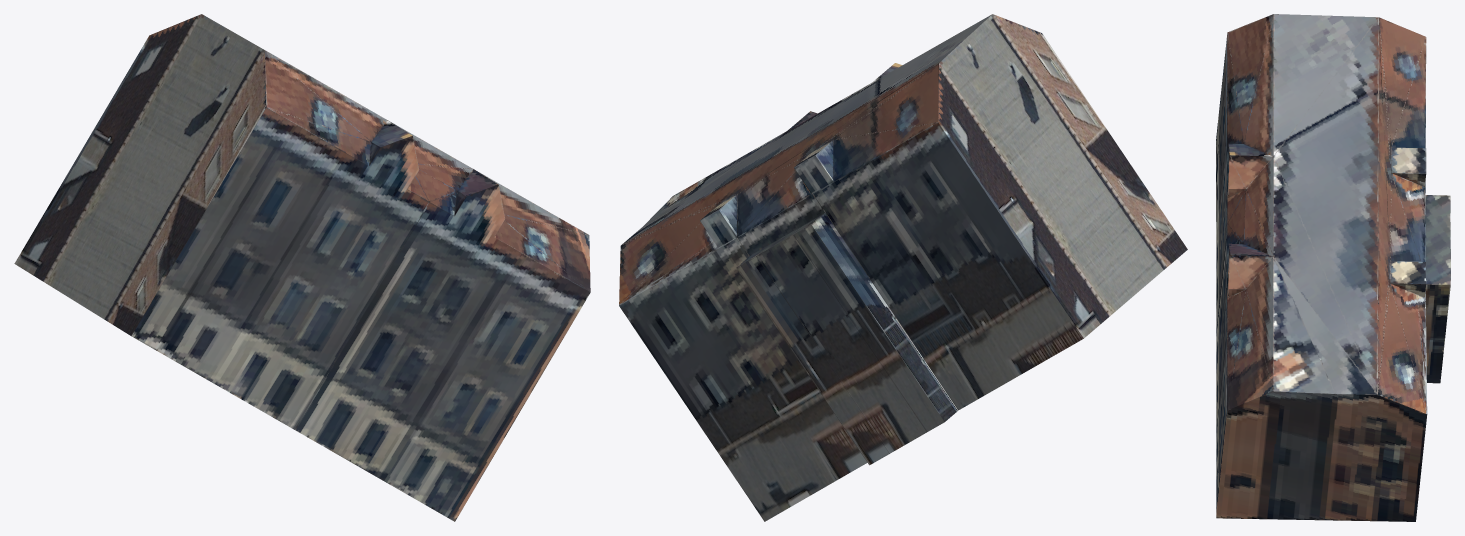
3 views of the same model, side by side, from view 1: azimuth 30°, elevation 25°; view 2: azimuth 150°, elevation 25°; view 3: azimuth 270°, elevation 25° (orthographic). The views are drawn at different scales.
Parts seen in each view (by area): view 1: BAG_0599100000688733 (×5); view 2: BAG_0599100000688733 (×7); view 3: BAG_0599100000688733 (×8).
Part boxes in pixels (x1=…): BAG_0599100000688733 (×5): x1=14, y1=14, x2=590, y2=521; BAG_0599100000688733 (×7): x1=619, y1=14, x2=1187, y2=521; BAG_0599100000688733 (×8): x1=1216, y1=14, x2=1450, y2=521.
Size of the model in its own units: 23.44 by 22.31 by 10.75.
9 materials, 9 textured.
